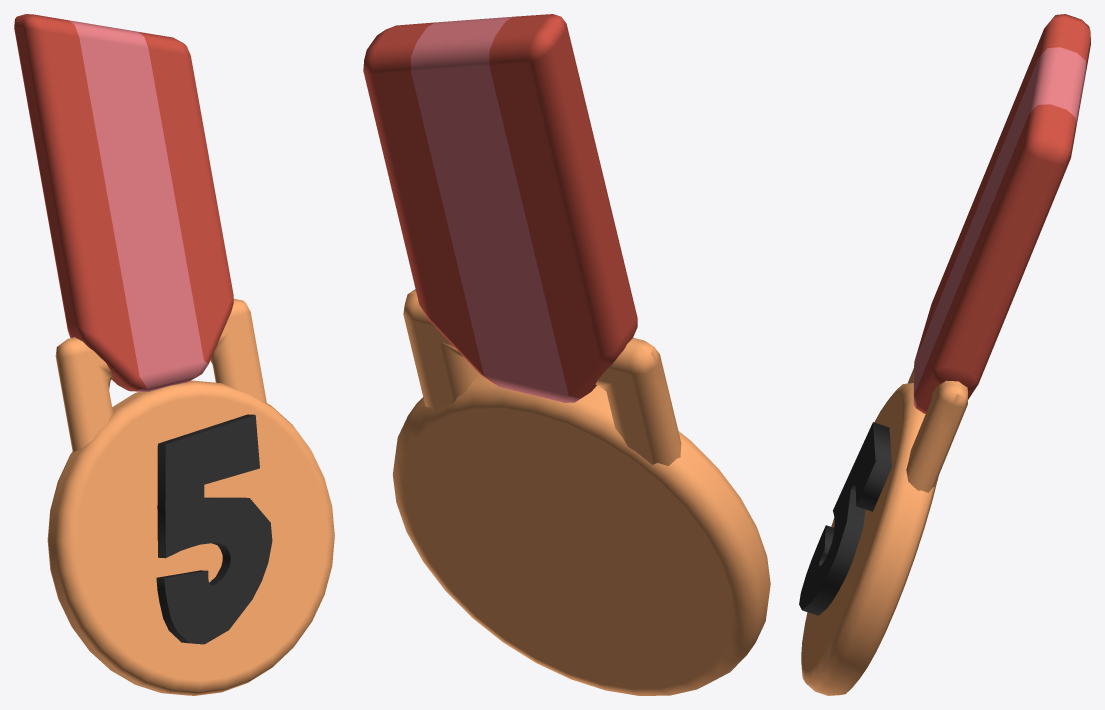
File: Founders_Token_Tier5.fbx
3 renders of one model, left to right at view 1: azimuth 30°, elevation 25°; view 2: azimuth 150°, elevation 25°; view 3: azimuth 270°, elevation 25°, orthographic. The views are drawn at different scales.
Parts seen in each view (by area): view 1: Circle.006, Text.004; view 2: Circle.006; view 3: Circle.006, Text.004.
Part boxes in pixels (<box>): Circle.006: <box>14,14,334,695</box>; Text.004: <box>156,414,272,644</box>; Circle.006: <box>363,14,770,695</box>; Circle.006: <box>801,14,1090,695</box>; Text.004: <box>799,422,891,615</box>.
Size of the model in its own units: 141 by 300 by 126.
